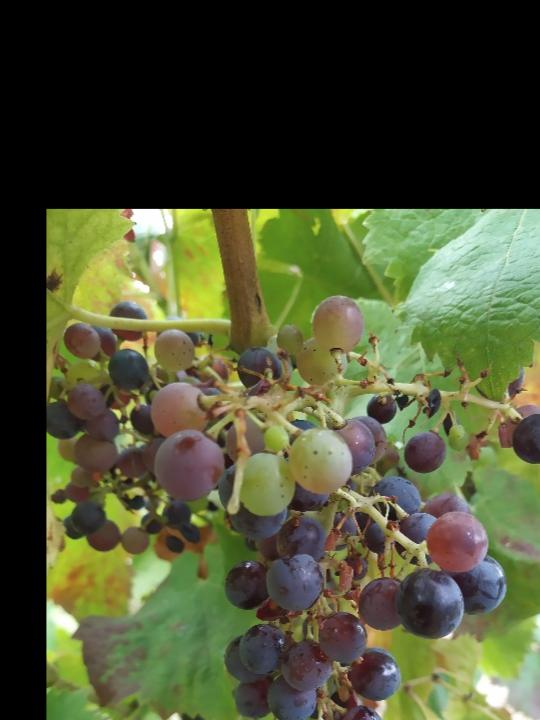grape: (46, 291, 540, 720)
